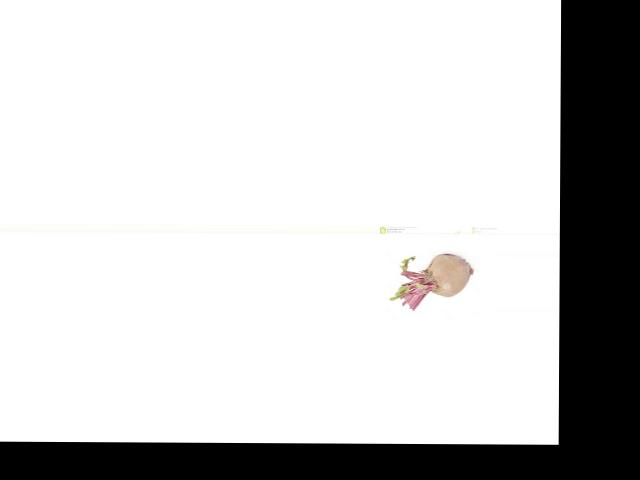beet: (390, 254, 474, 310)
